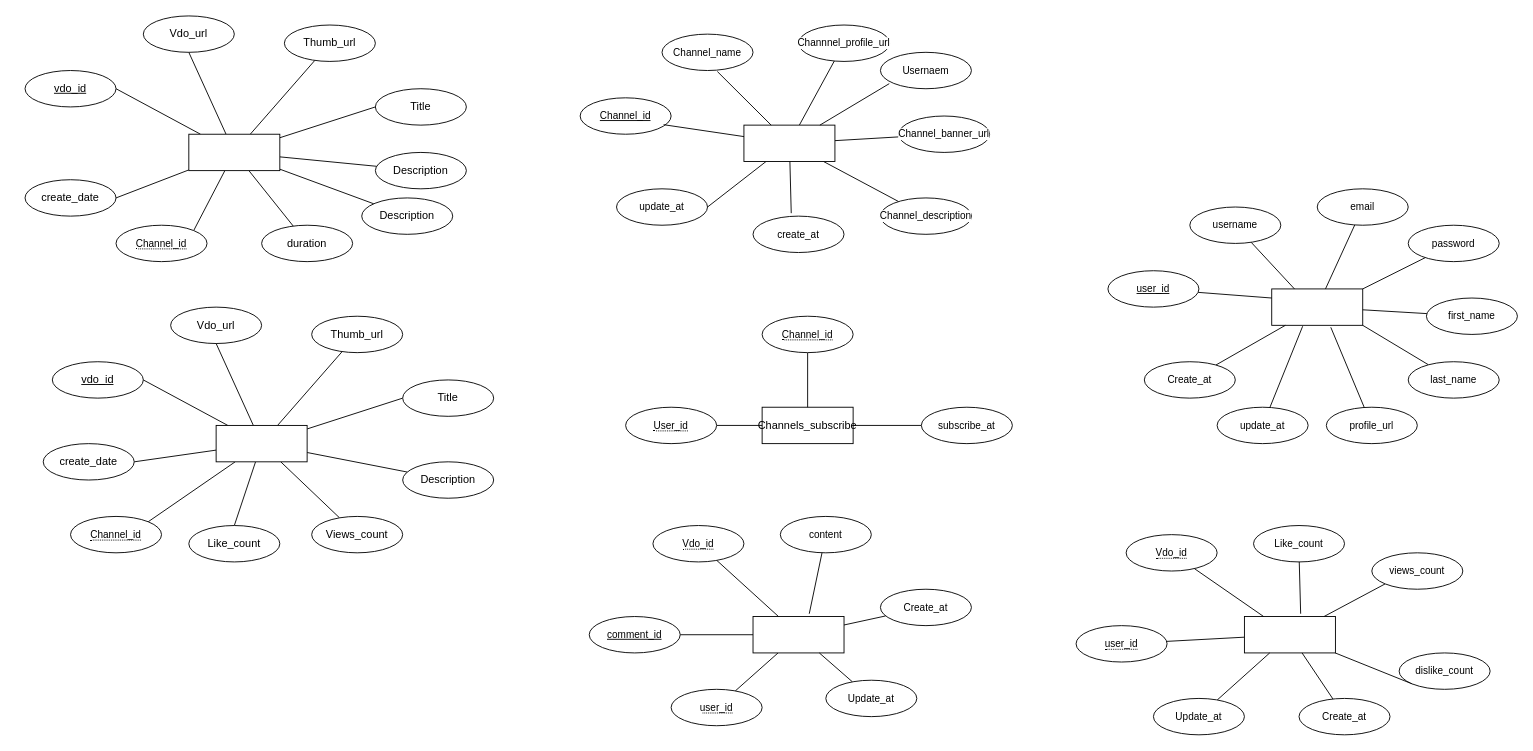
Some shapes in this 1533 by 751 pixel diagram are drawn without their labels. Each missing label, with the centre of its shape:
"Channels" belongs at [789,143].
"Comment" belongs at [798,634].
"Popular" belongs at [1289,634].
"Users" belongs at [1317,306].
"Videos_long" belongs at [234,152].
"Videos_short" belongs at [261,443].
